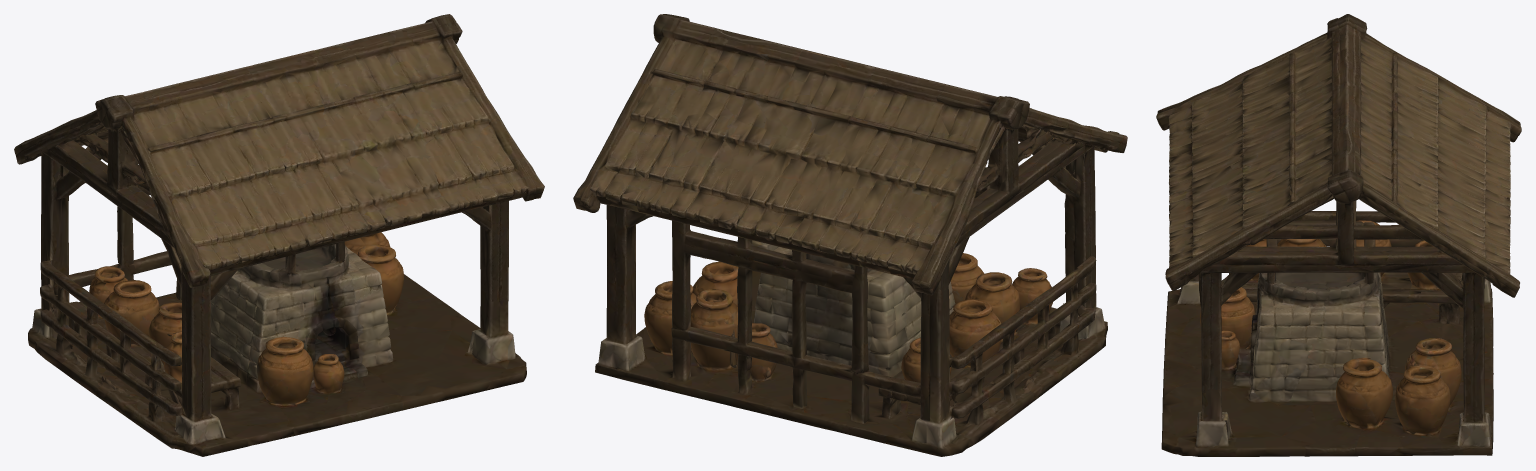
The model's file is bq_pottery.glb.
3 renders of one model, left to right at view 1: azimuth 30°, elevation 25°; view 2: azimuth 150°, elevation 25°; view 3: azimuth 270°, elevation 25°, orthographic. The views are drawn at different scales.
Visible parts, largest first — view 1: mesh_node; view 2: mesh_node; view 3: mesh_node.
Part boxes in pixels (x1=…): mesh_node: x1=14, y1=14, x2=544, y2=456; mesh_node: x1=573, y1=14, x2=1127, y2=456; mesh_node: x1=1156, y1=14, x2=1521, y2=456.
Bounding box in the file's own units: 1.9 × 1.47 × 1.71.
1 material, 1 textured.
